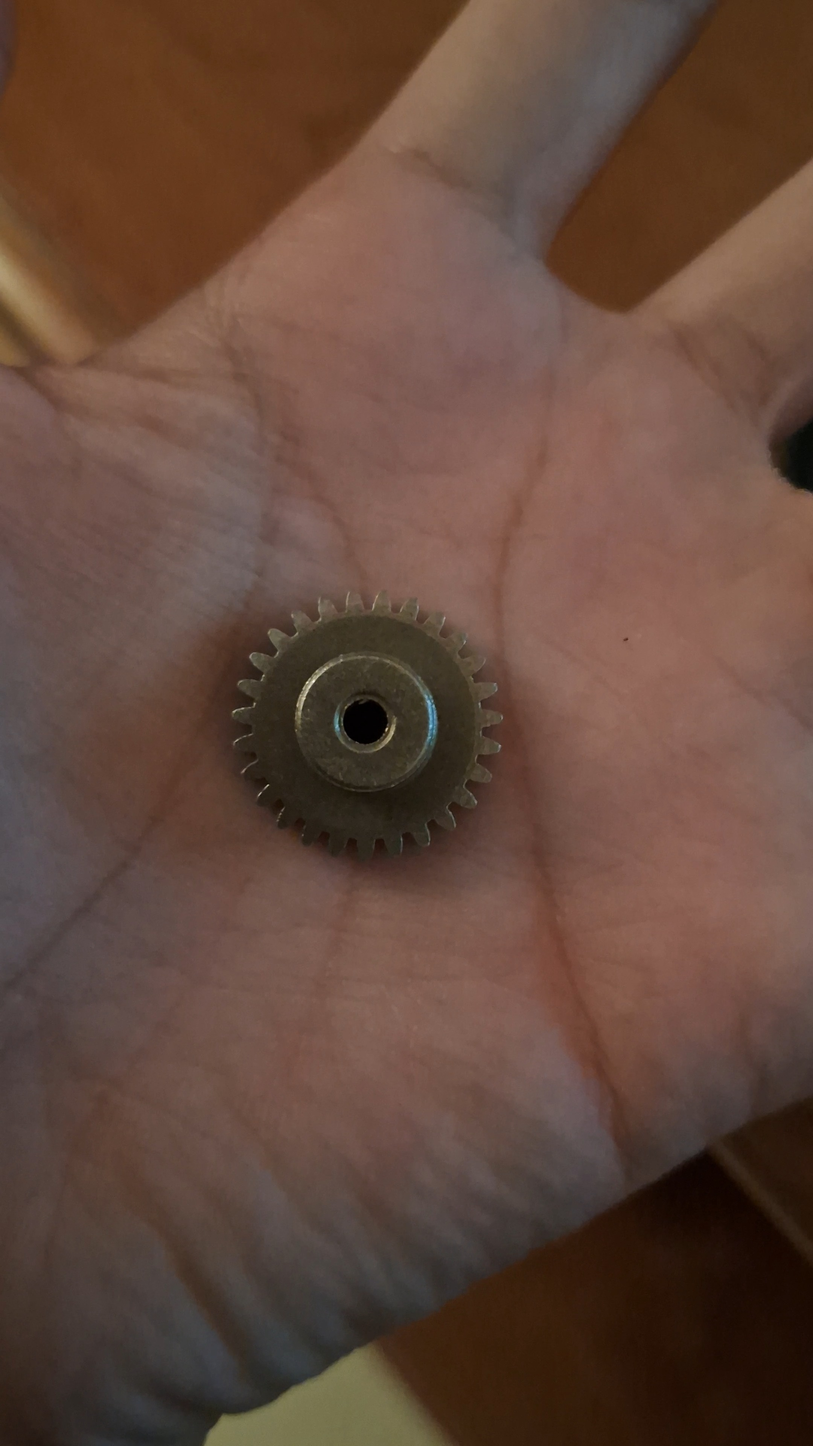spur gear: (234, 592, 501, 857)
